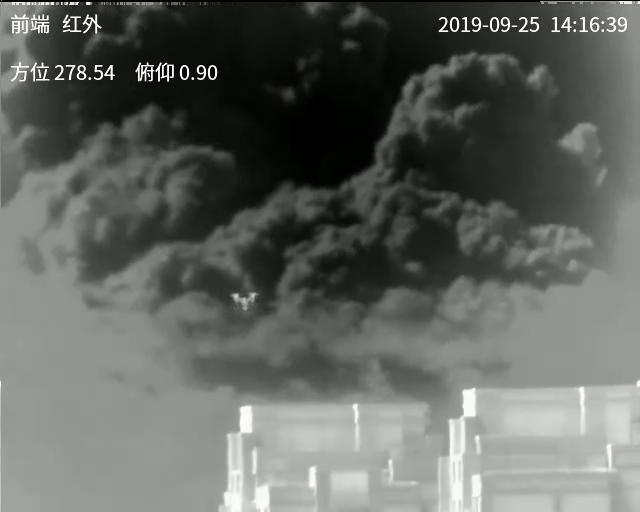uav: (229, 285, 256, 312)
